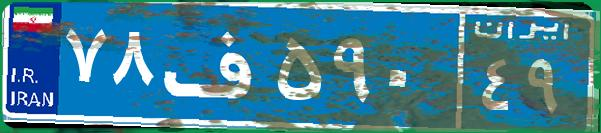0: (385, 28, 445, 110)
4: (475, 38, 525, 113)
5: (273, 28, 330, 110)
7: (57, 26, 110, 107)
8: (110, 28, 158, 105)
9: (330, 28, 385, 110), (525, 38, 570, 115)
ف: (158, 15, 273, 115)
